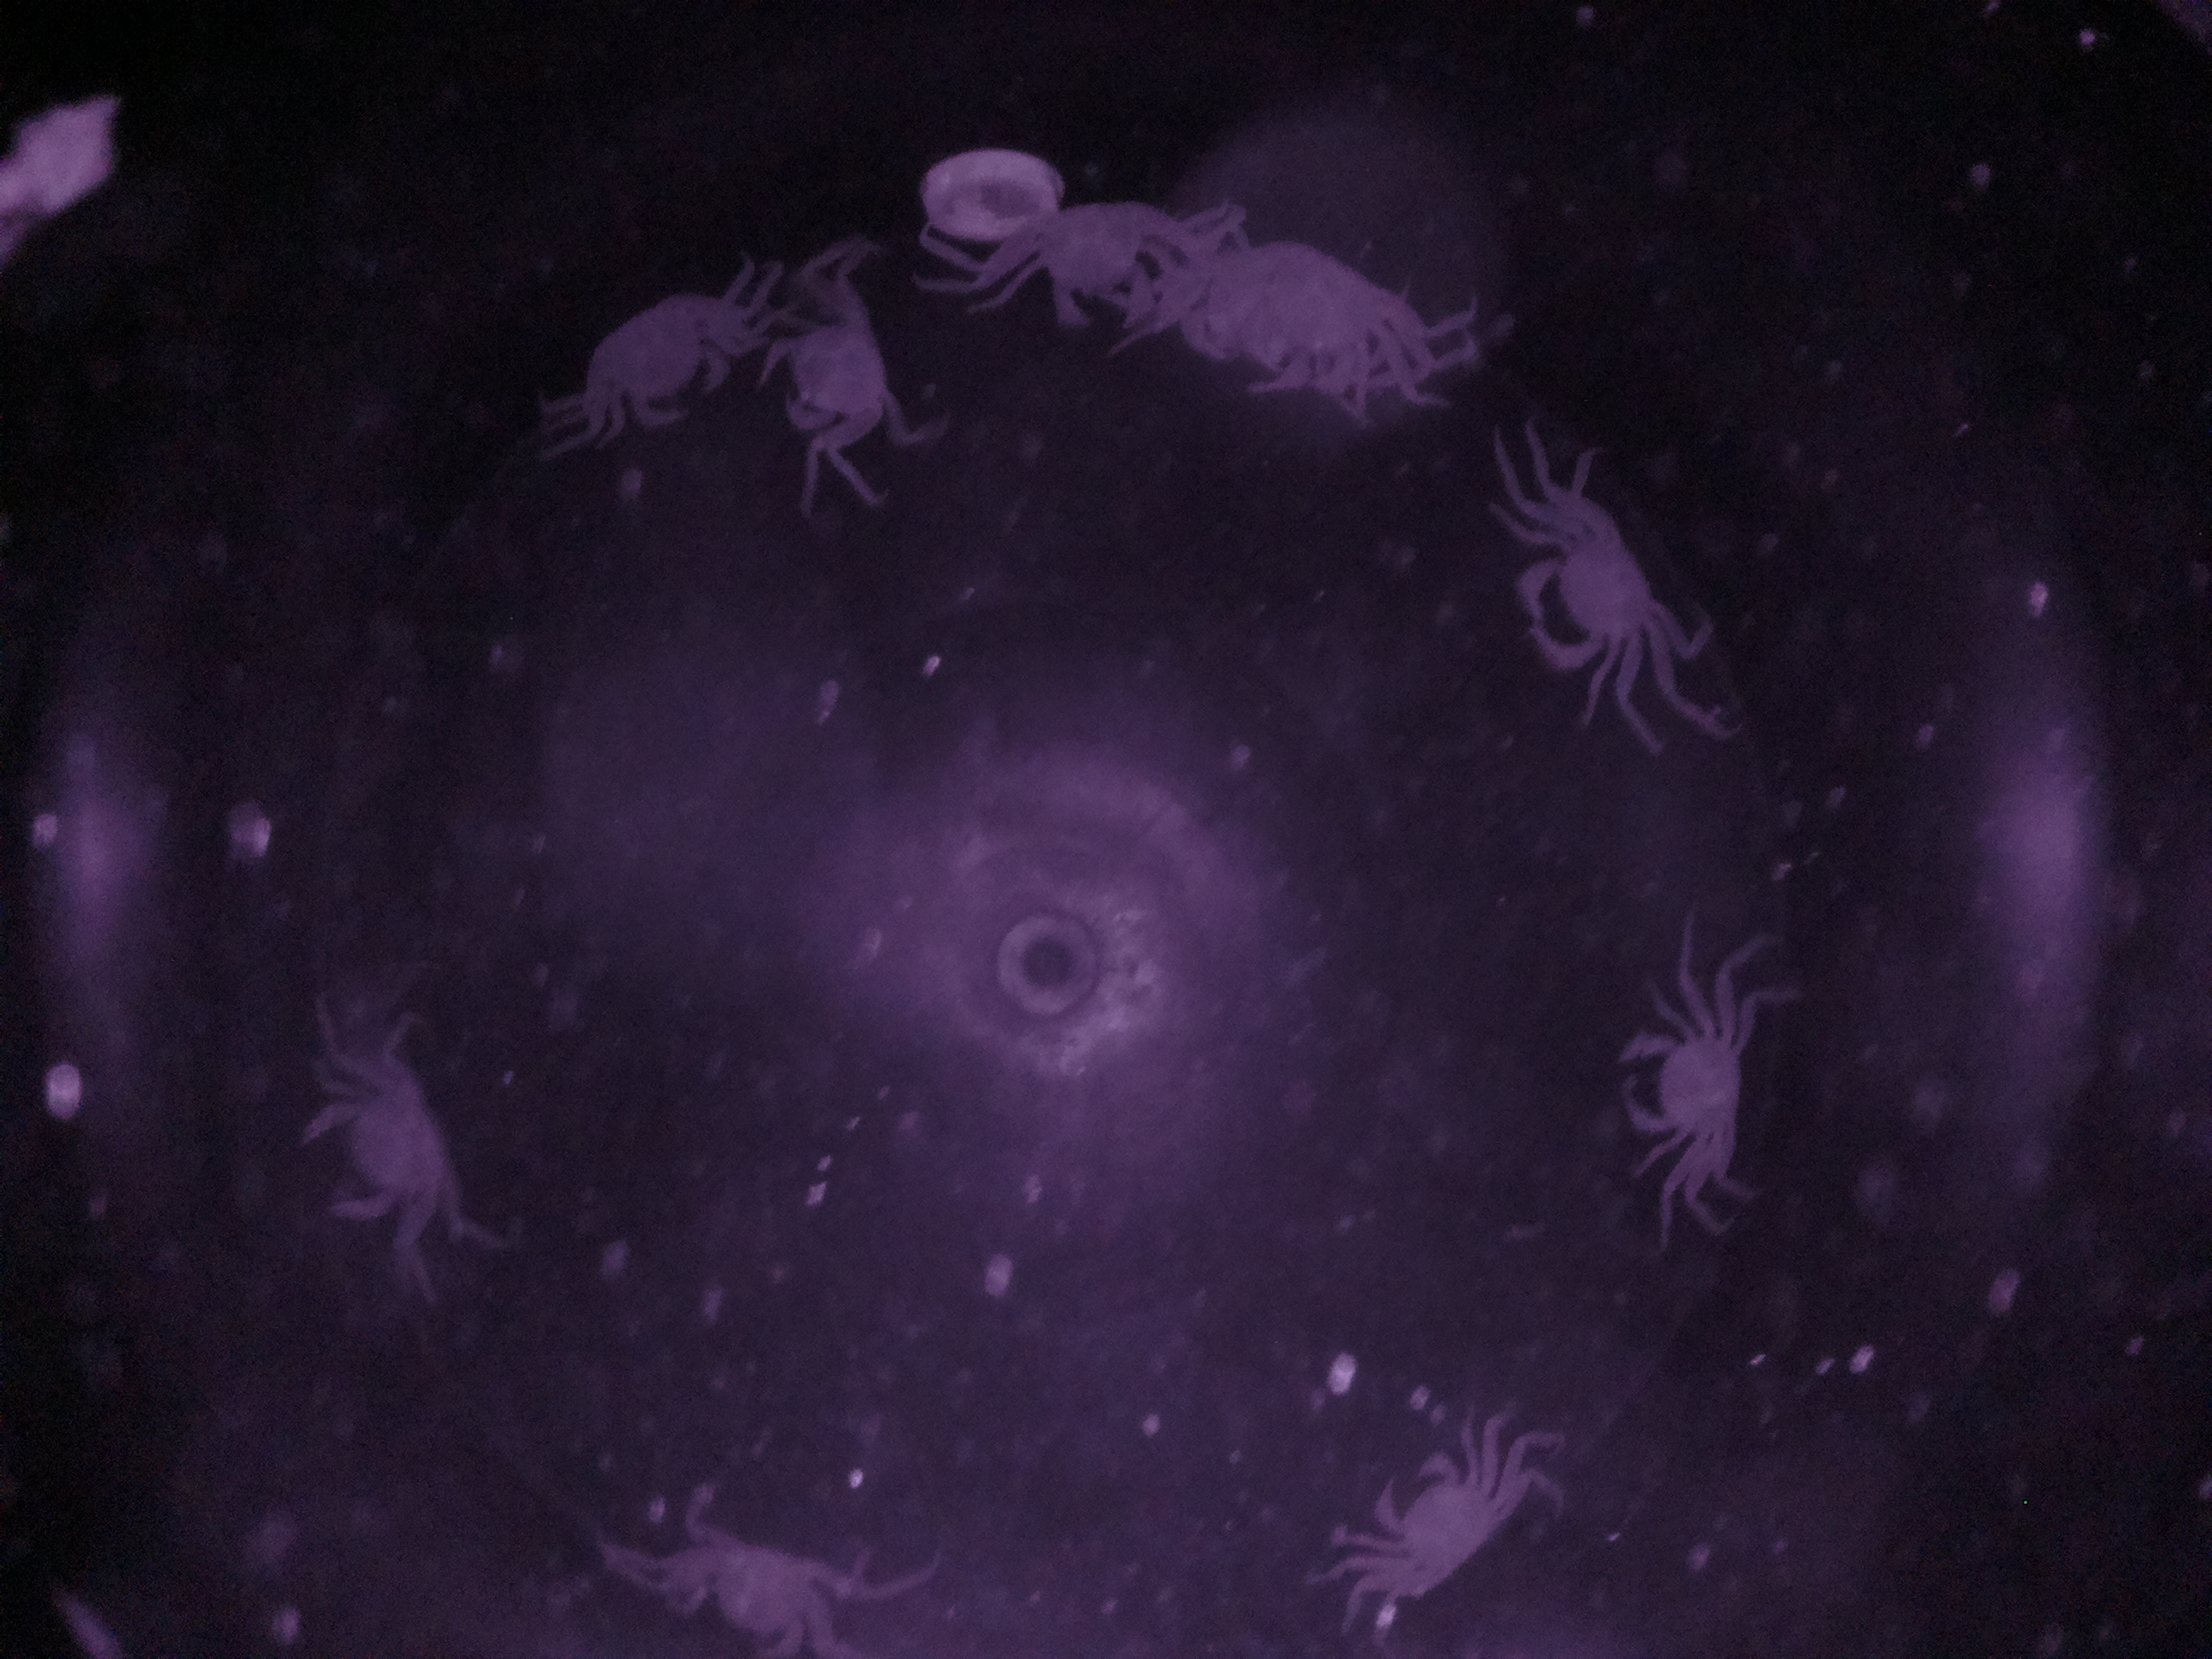Crab: (1507, 488, 1686, 701), (573, 254, 749, 453), (1359, 1420, 1515, 1607), (1606, 995, 1763, 1178), (761, 268, 914, 443)
